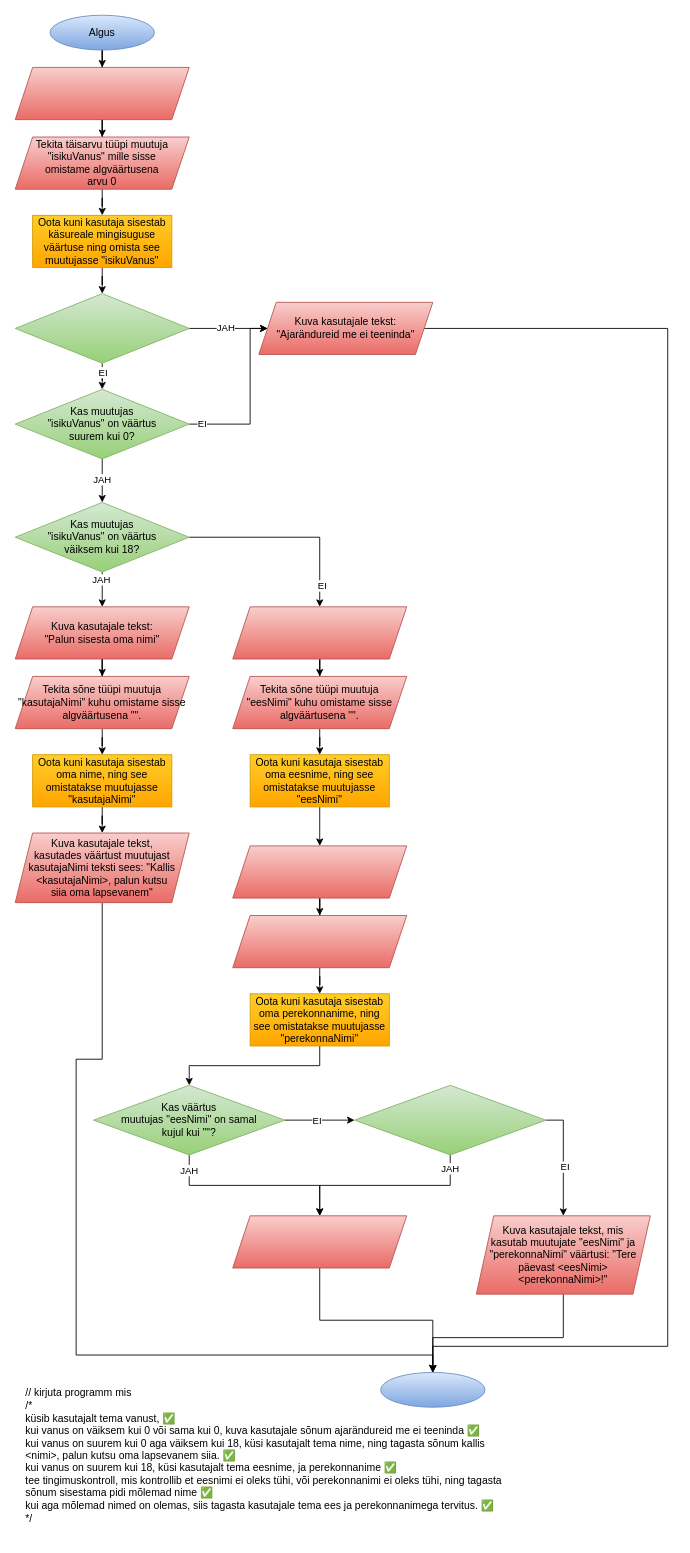
This 690x1553 diagram has some shape labels left out. Each missing label, with the centre of its shape:
Kas muutujas "isikuVanus" on väärtus väiksem või võrdne 0 arvuga?: pixel 101 328
Kas väärtus muutujas "perekonnaNimi" on samal kujul kui ""?: pixel 450 1119
Kuva kasutajale tekst: "Palun sisesta oma Eesnimi": pixel 319 632
Kuva kasutajale tekst: "Palun sisesta oma Perekonnanimi": pixel 319 871
Kuva kasutajale tekst: "palun sisesta oma vanus": pixel 101 93
Kuva kasutajale tekst: "Sisestama pidi mõlemad nimed": pixel 319 1241
Lõpp: pixel 432 1389
Tekita sõne tüüpi muutuja "perekonnaNimi" kuhu omistame sisse algväärtusena "".: pixel 319 941
